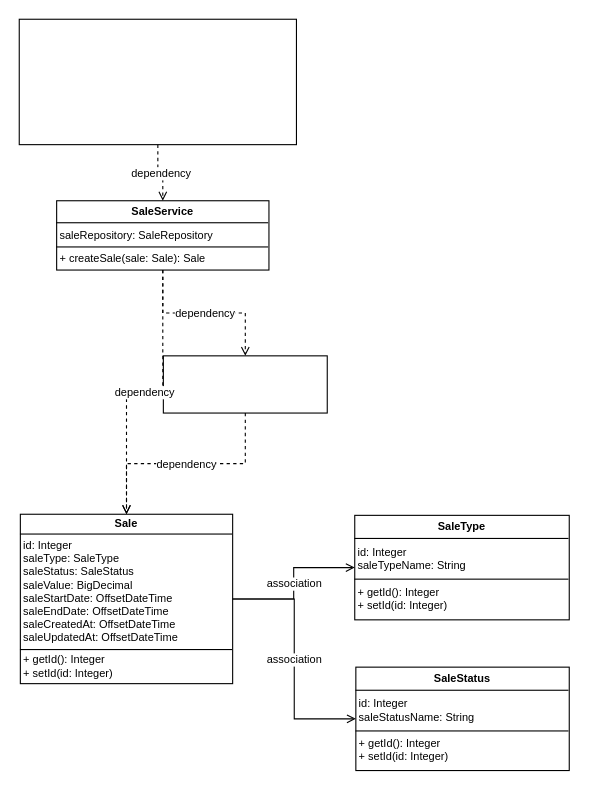
The diagram is 589 pixels wide and 790 high, and some of its shapes have lost their labels. Each missing label, with the centre of its shape:
"SaleRepository + save(sale: Sale): Sale" goes at point 244,384.
"SaleRestController - saleService: SaleService + createSale(sale: Sale): Object" goes at point 157,81.
